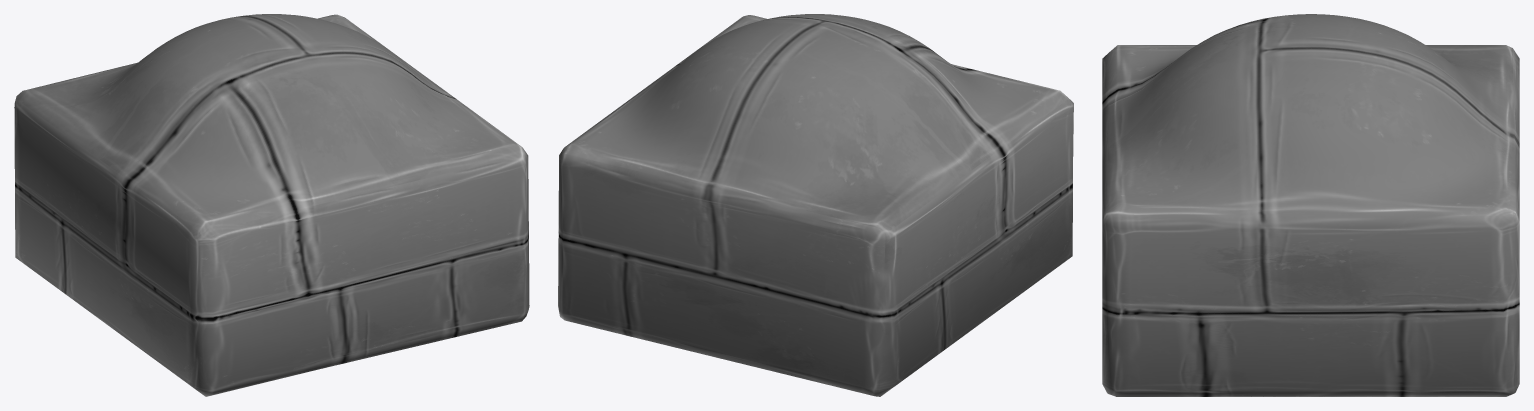
The model's file is AntHill Piece.fbx.
The picture shows the model from 3 angles, left to right: view 1: azimuth 30°, elevation 25°; view 2: azimuth 150°, elevation 25°; view 3: azimuth 270°, elevation 25°; orthographic projection. The views are drawn at different scales.
Visible parts, largest first — view 1: AntHill_low; view 2: AntHill_low; view 3: AntHill_low.
Boxes of the visible parts, x1,y1,x2,y2 form: AntHill_low: (14,14,529,396); AntHill_low: (558,14,1073,396); AntHill_low: (1102,14,1519,396).
Bounding box in the file's own units: 200 × 146 × 200.
